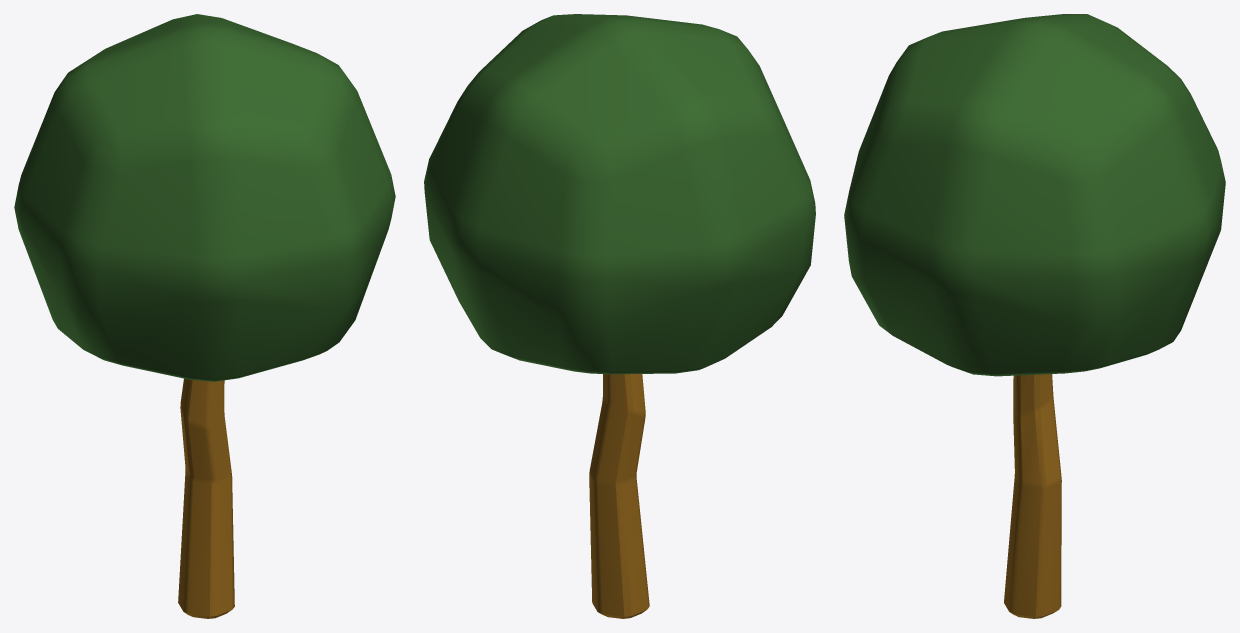
File: Tree_02.glb
3 renders of one model, left to right at view 1: azimuth 30°, elevation 25°; view 2: azimuth 150°, elevation 25°; view 3: azimuth 270°, elevation 25°, orthographic.
Parts seen in each view (by area): view 1: Tree_V2; view 2: Tree_V2; view 3: Tree_V2.
Part boxes in pixels (left/top/right/bottom): Tree_V2: left=14, top=14, right=395, bottom=618; Tree_V2: left=424, top=14, right=815, bottom=618; Tree_V2: left=844, top=14, right=1225, bottom=618.
Size of the model in its own units: 7.82 by 13.23 by 7.82.
